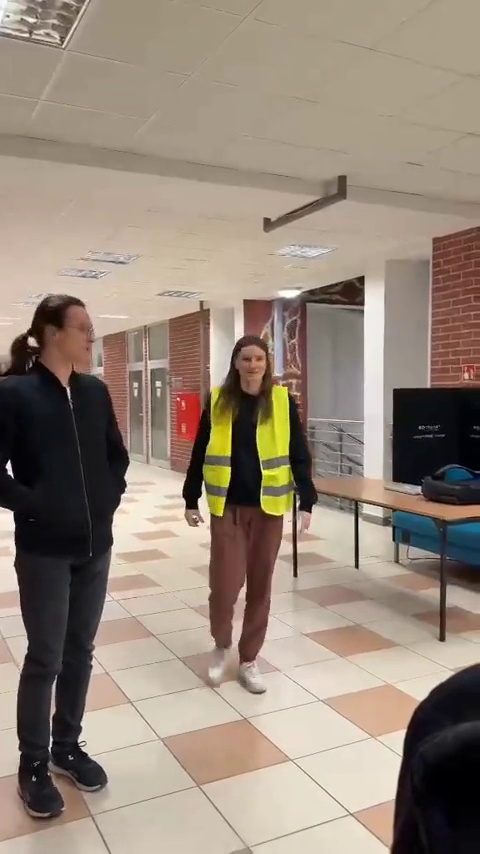no vest: (0, 290, 123, 836)
vest: (183, 338, 314, 704)
